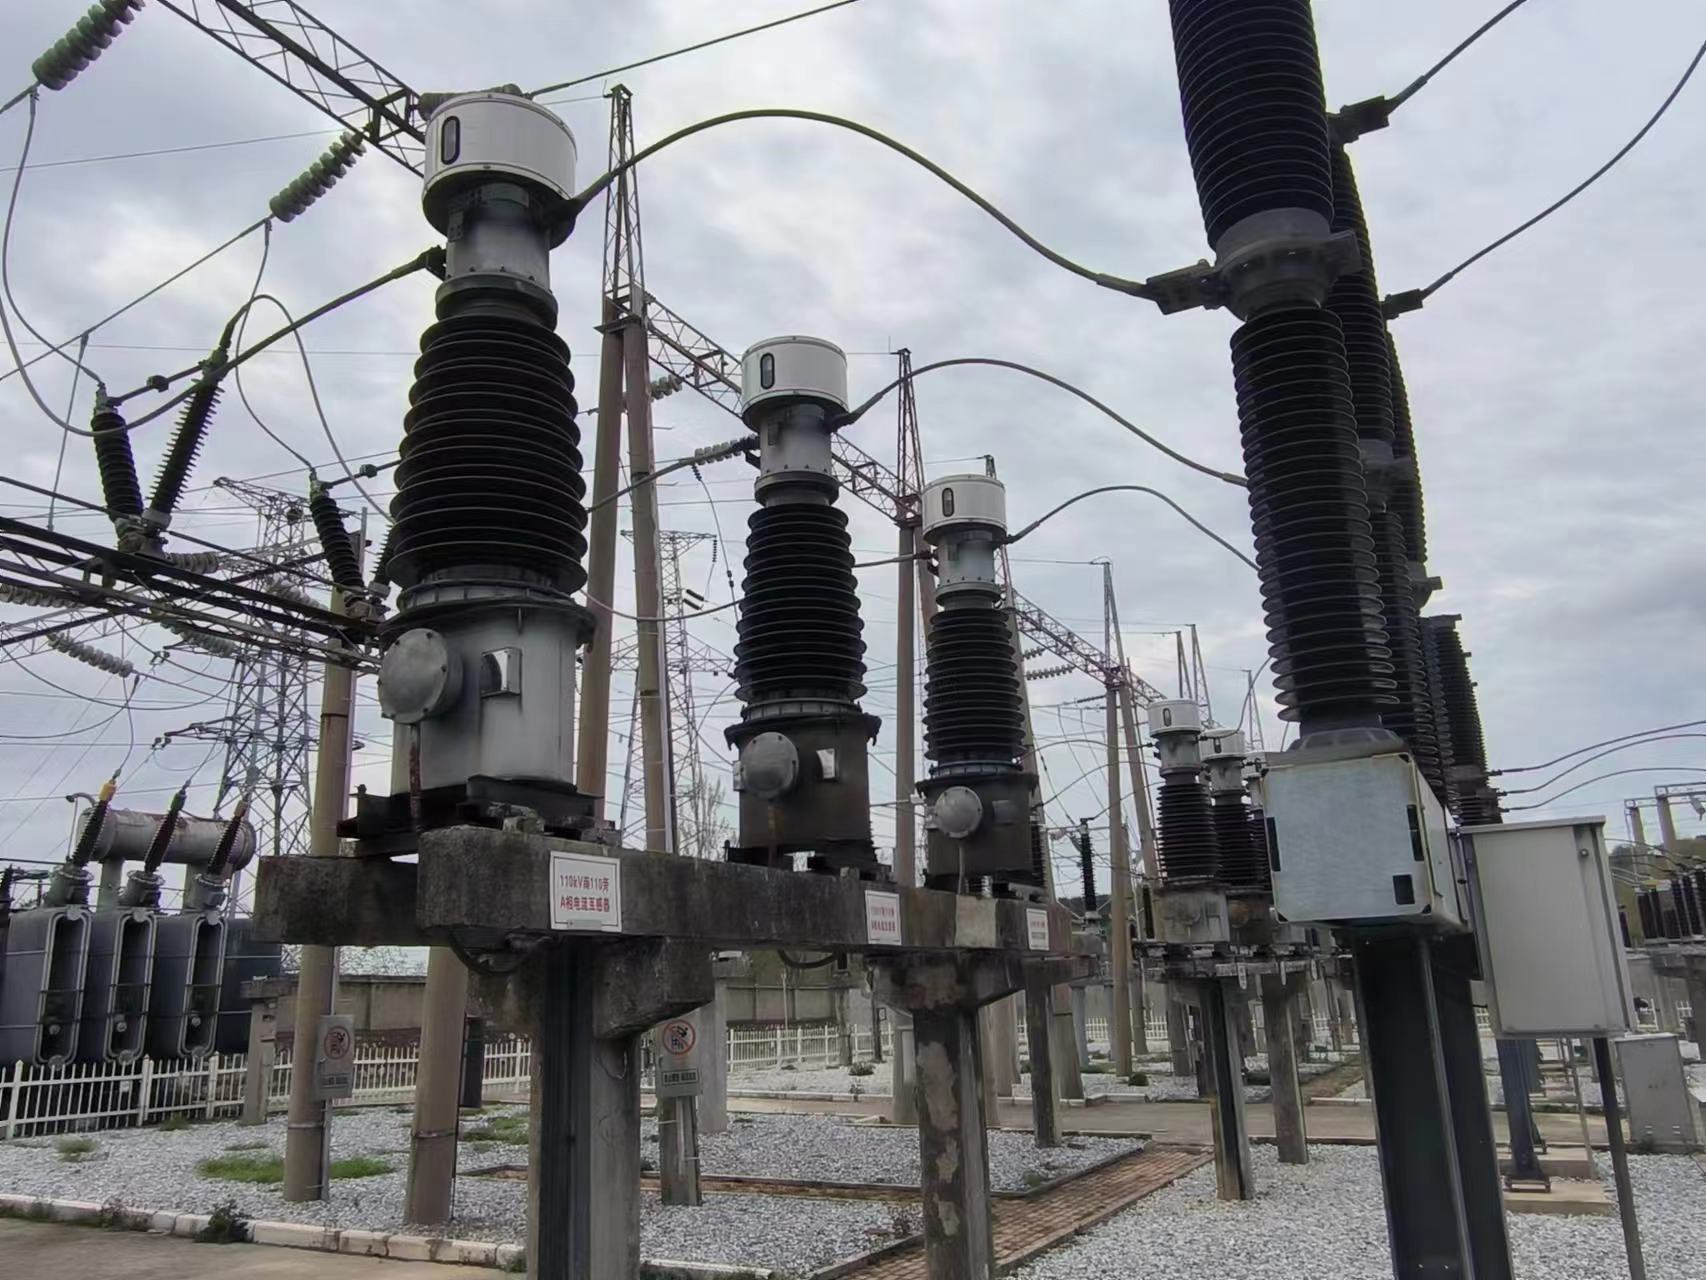Current transformer: (368, 91, 601, 791), (721, 333, 885, 855), (909, 475, 1041, 879)
